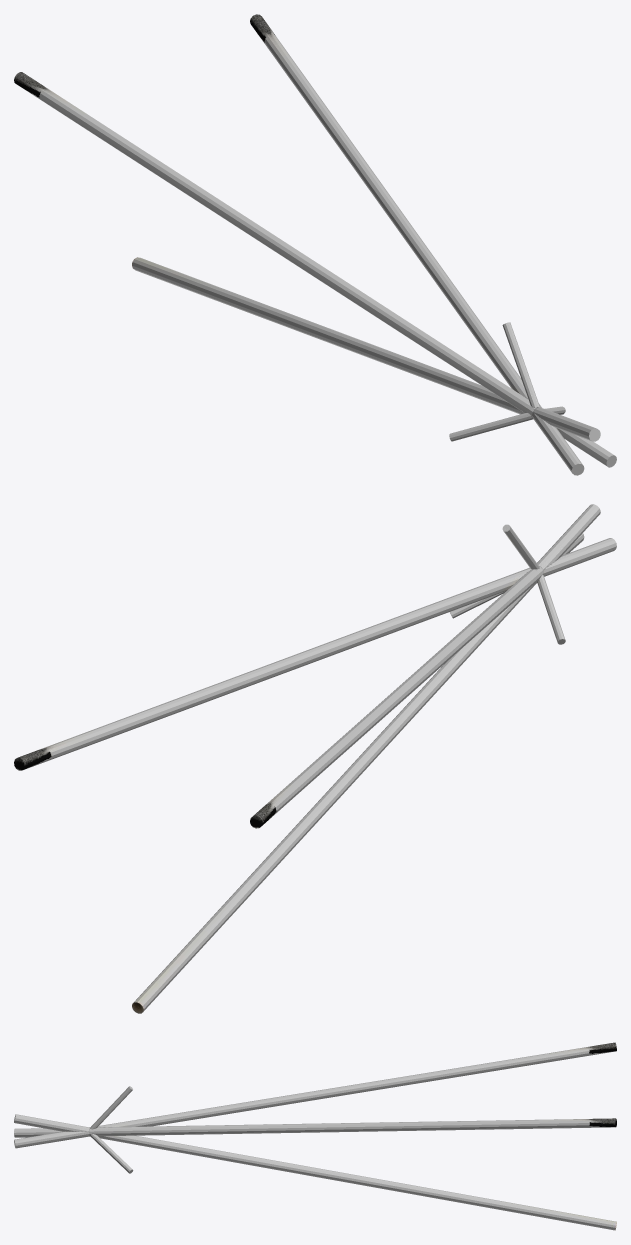
3 renders of one model, top to bottom at view 1: azimuth 30°, elevation 25°; view 2: azimuth 150°, elevation 25°; view 3: azimuth 270°, elevation 25°, orthographic. The views are drawn at different scales.
Visible parts, largest first — view 1: B6_final.001; view 2: B6_final.001; view 3: B6_final.001.
Part boxes in pixels (bbox=[...]): B6_final.001: bbox=[14, 14, 616, 475]; B6_final.001: bbox=[14, 504, 616, 1013]; B6_final.001: bbox=[14, 1042, 616, 1230].
Size of the model in its own units: 0.5452 by 0.4757 by 1.74.
Materials: 1 (1 with a texture image).
